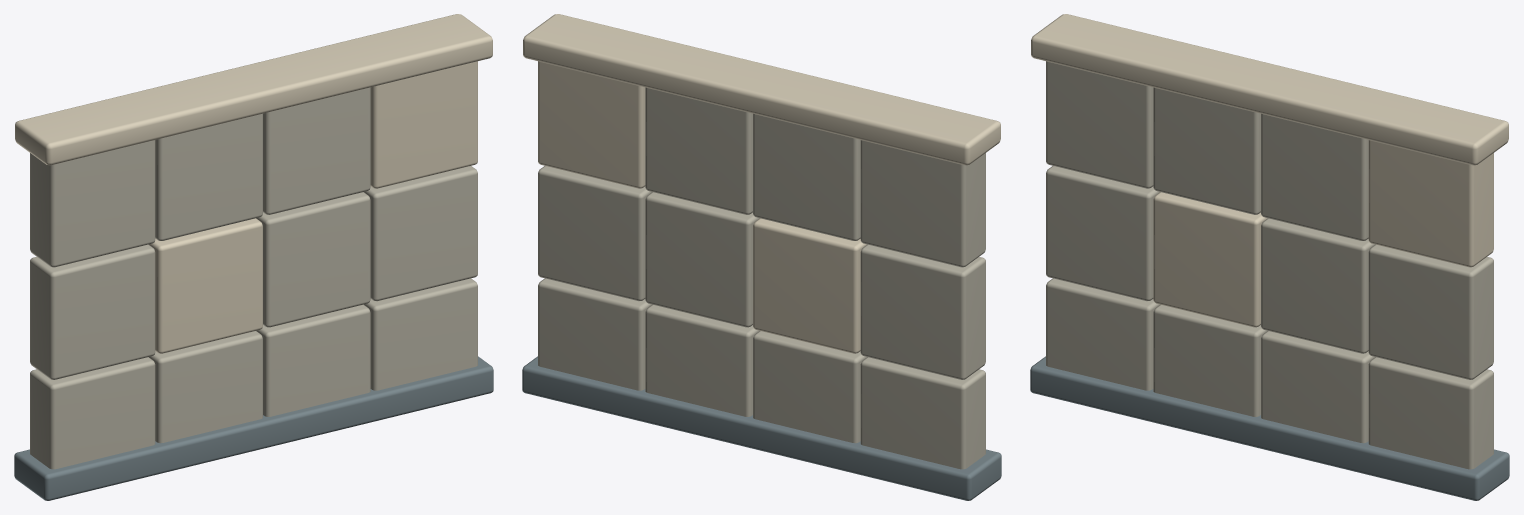
Rendered from SM_Wall_Stone_4x3.fbx.
The picture shows the model from 3 angles, left to right: view 1: azimuth 30°, elevation 25°; view 2: azimuth 150°, elevation 25°; view 3: azimuth 330°, elevation 25°; orthographic projection.
Visible parts, largest first — view 1: SM_Wall_Stone_4x3; view 2: SM_Wall_Stone_4x3; view 3: SM_Wall_Stone_4x3.
Boxes of the visible parts, left/top/right/bottom form: SM_Wall_Stone_4x3: left=14, top=14, right=493, bottom=500; SM_Wall_Stone_4x3: left=522, top=14, right=1001, bottom=500; SM_Wall_Stone_4x3: left=1030, top=14, right=1509, bottom=500.
Size of the model in its own units: 4.18 by 3.18 by 0.56.
